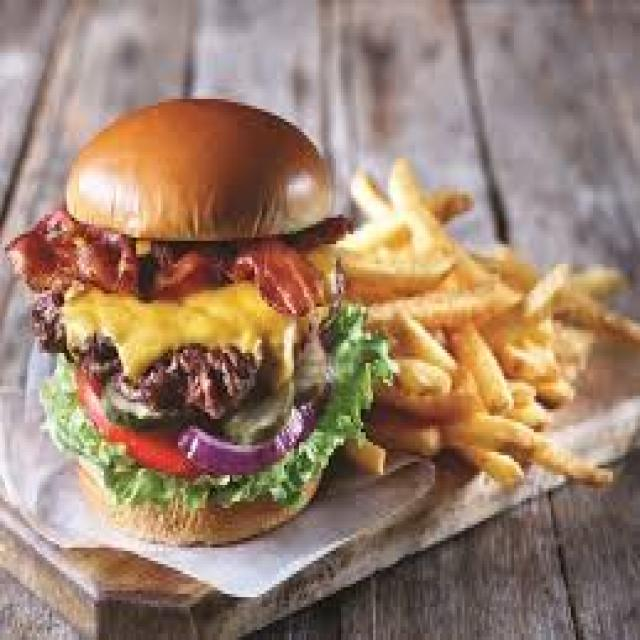Burger: (8, 82, 344, 548)
French Fries: (338, 142, 638, 491)
